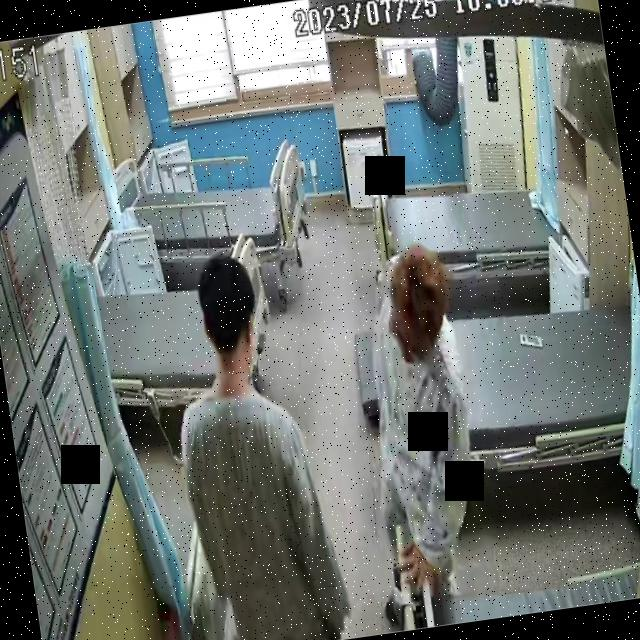bed: (380, 292, 640, 481), (71, 238, 278, 420), (110, 134, 316, 268), (369, 170, 566, 292)
patient: (152, 241, 355, 640), (345, 240, 498, 628)
stand: (153, 241, 355, 640), (346, 242, 502, 632)
